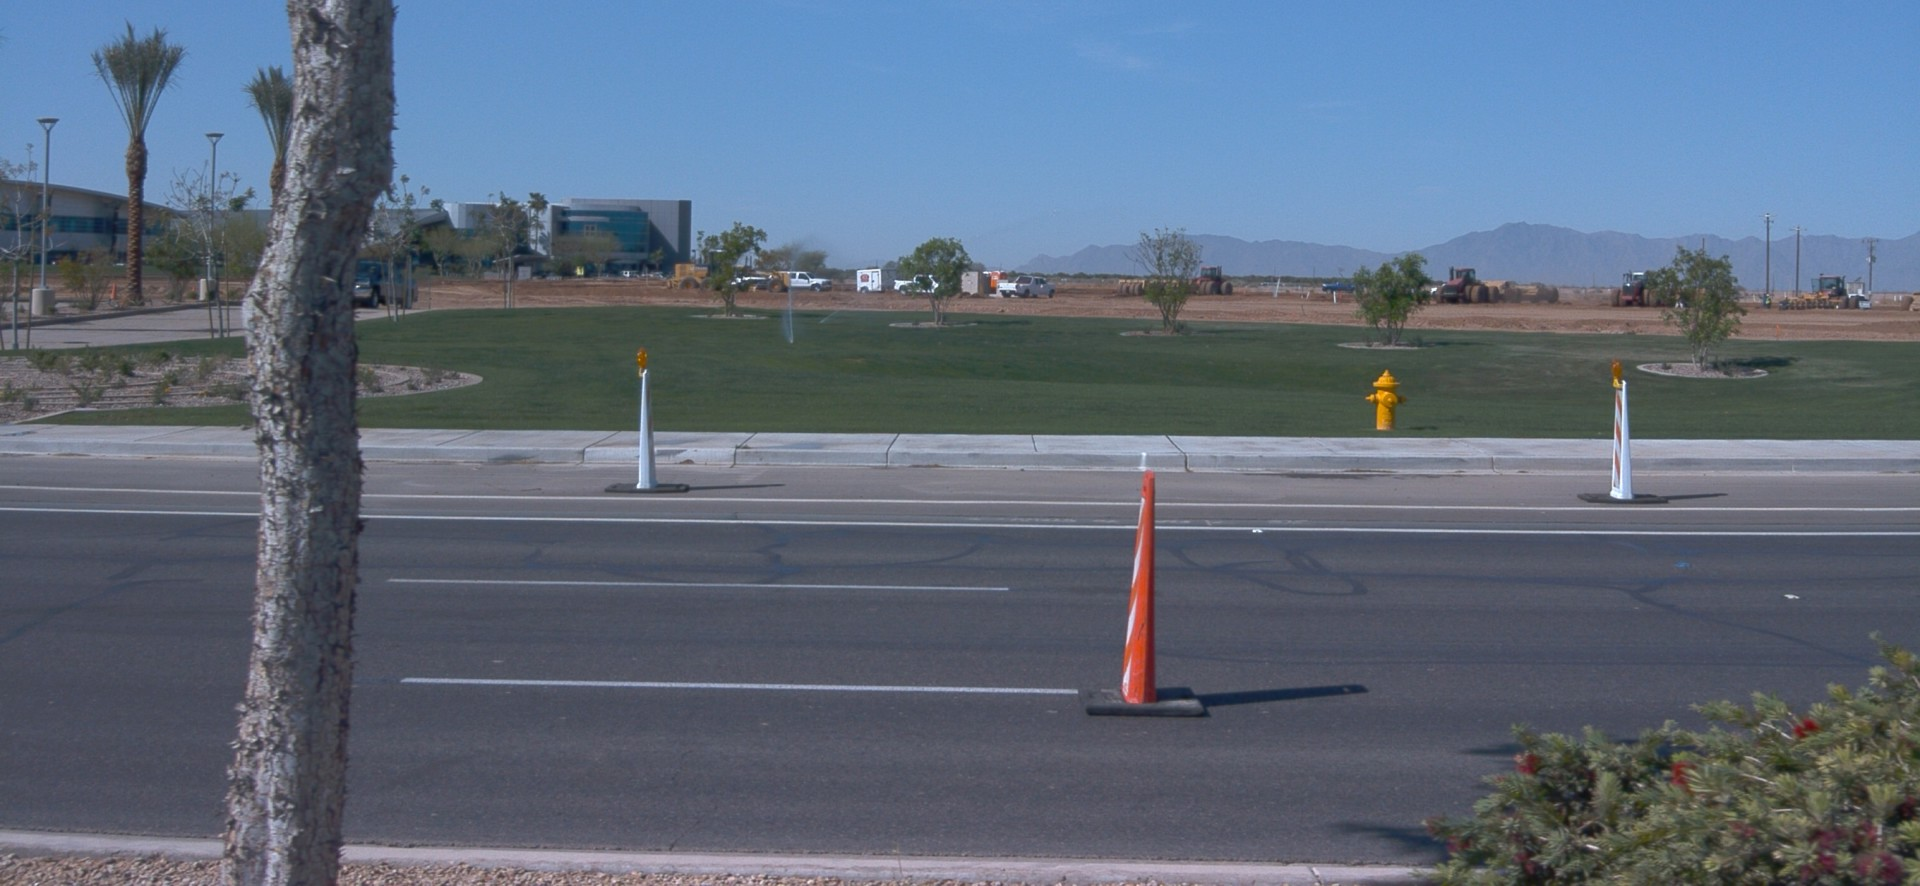TYPE_VEHICLE: (668, 248, 791, 295), (356, 256, 422, 312), (1436, 266, 1501, 306), (1608, 269, 1673, 309), (1813, 273, 1860, 313), (1185, 264, 1234, 297), (774, 269, 832, 293), (997, 279, 1055, 300), (854, 268, 899, 294), (892, 275, 947, 296), (1116, 278, 1180, 294), (1320, 279, 1364, 293), (730, 274, 767, 287), (1380, 286, 1414, 300), (1899, 292, 1920, 313), (1850, 294, 1873, 313), (1425, 284, 1444, 297), (115, 262, 125, 266)
